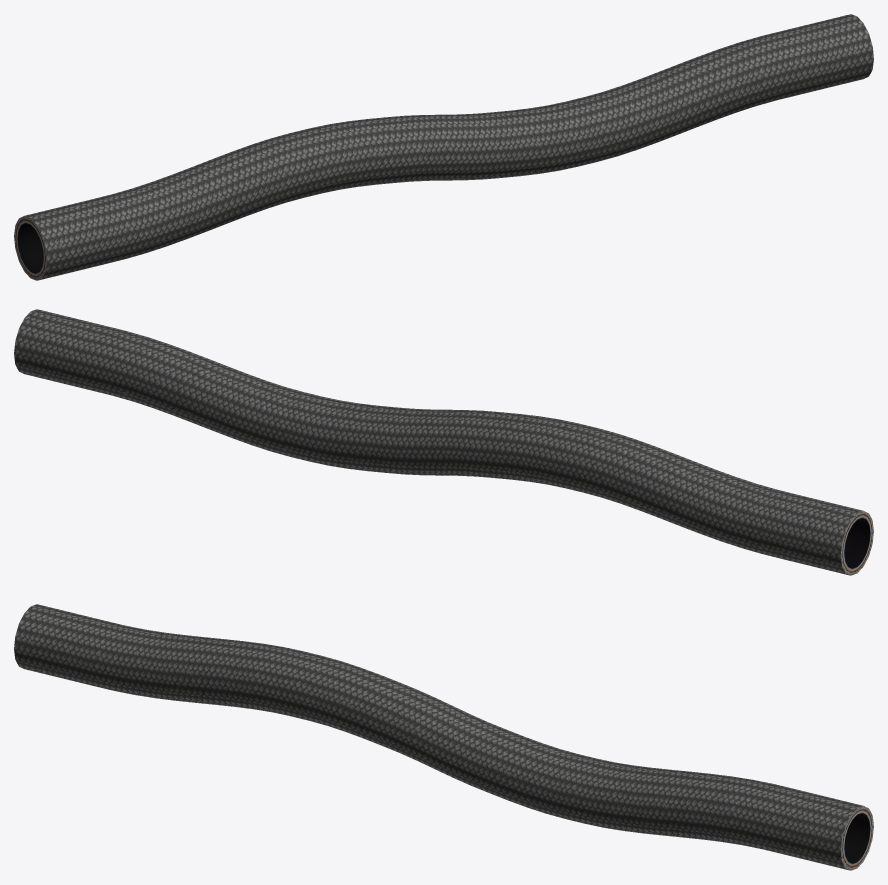
3 renders of one model, top to bottom at view 1: azimuth 30°, elevation 25°; view 2: azimuth 150°, elevation 25°; view 3: azimuth 330°, elevation 25°, orthographic.
Parts seen in each view (by area): view 1: ProBlack_SB_Aramid-10; view 2: ProBlack_SB_Aramid-10; view 3: ProBlack_SB_Aramid-10.
Part boxes in pixels (left/top/right/bottom): ProBlack_SB_Aramid-10: left=14, top=14, right=873, bottom=280; ProBlack_SB_Aramid-10: left=14, top=309, right=873, bottom=575; ProBlack_SB_Aramid-10: left=14, top=604, right=873, bottom=870.
Size of the model in its own units: 0.3074 by 0.0341 by 0.0214.
Materials: 2 (2 with a texture image).
